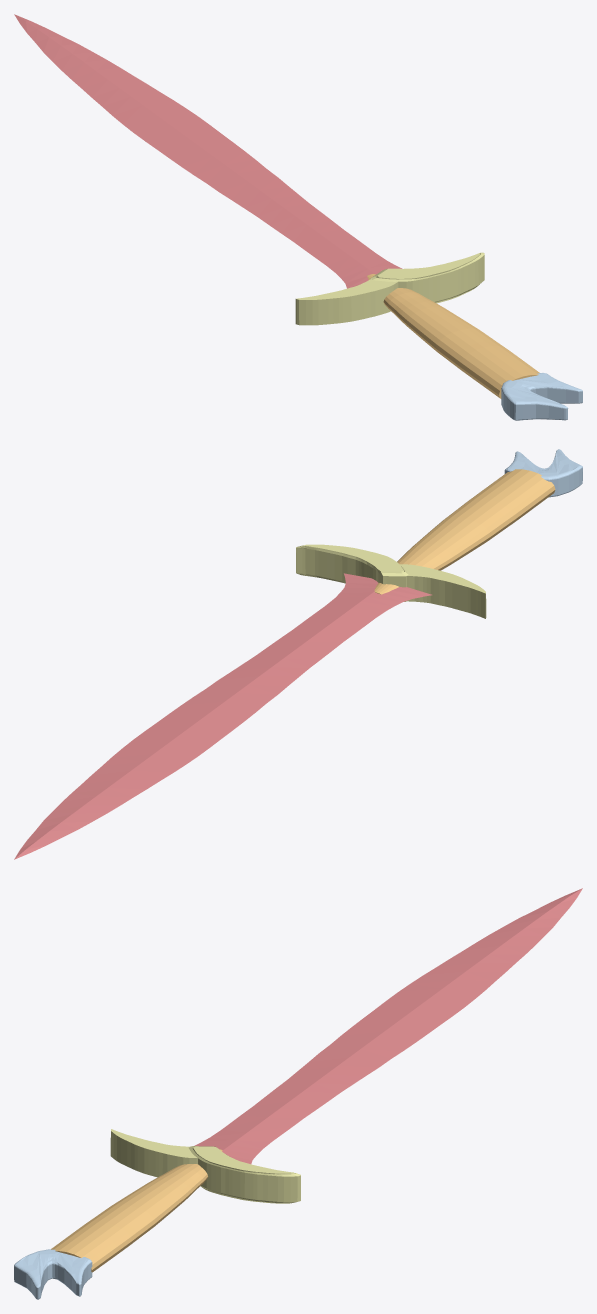
The model's file is 77389_assembly.glb.
3 views of the same model, one above another, from view 1: azimuth 30°, elevation 25°; view 2: azimuth 150°, elevation 25°; view 3: azimuth 330°, elevation 25° (orthographic).
Parts seen in each view (by area): view 1: part_00, part_02, part_01, part_03; view 2: part_00, part_01, part_02, part_03; view 3: part_00, part_02, part_01, part_03.
Boxes of the visible parts, x1,y1,x2,y2 form: part_00: [14, 14, 402, 288]; part_02: [295, 252, 484, 325]; part_01: [367, 274, 539, 398]; part_03: [501, 373, 582, 420]; part_00: [14, 573, 431, 859]; part_01: [374, 469, 555, 594]; part_02: [296, 544, 486, 618]; part_03: [504, 449, 582, 497]; part_00: [194, 888, 582, 1163]; part_02: [110, 1129, 300, 1203]; part_01: [51, 1149, 222, 1272]; part_03: [14, 1249, 92, 1299].
Bounding box in the file's own units: 0.2945 × 0.0446 × 1.48.
